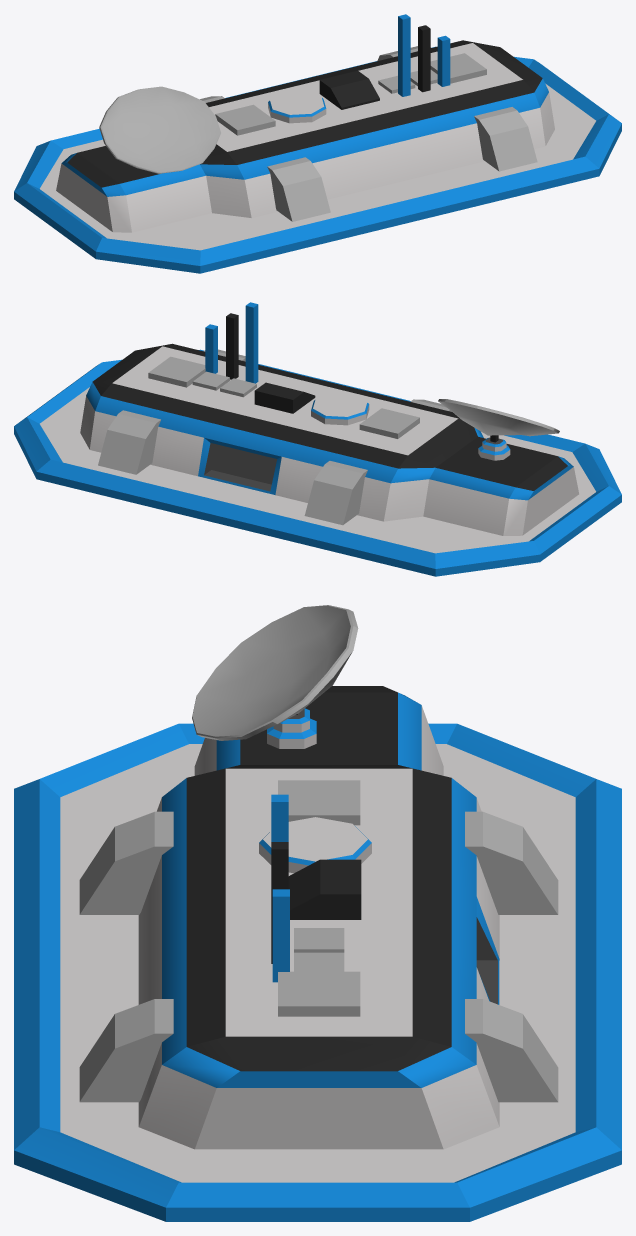
The model's file is PBase.fbx.
3 views of the same model, one above another, from view 1: azimuth 30°, elevation 25°; view 2: azimuth 150°, elevation 25°; view 3: azimuth 270°, elevation 25° (orthographic). The views are drawn at different scales.
Parts seen in each view (by area): view 1: Main, Base, Radat, CL3, CL4, EN, Cell6, Cell5, Cell7, Cell1, Cell4, Cell3; view 2: Main, Base, CL2, CL1, Radat, Cell6, EN, Cell5, Cell1, Cell7, Cell4, Cell3 (+3 smaller); view 3: Base, Main, Radat, CL3, CL4, CL1, CL2, EN, Cell1, Cell6, Cell5, Cell3 (+5 smaller).
Part boxes in pixels (x1,y1,x2,y2): Main: (56,40,554,232); Base: (14,46,621,273); Radat: (99,86,220,173); CL3: (474,107,537,171); CL4: (267,157,330,221); EN: (319,70,379,109); Cell6: (268,92,326,123); Cell5: (215,104,275,135); Cell7: (398,14,410,96); Cell1: (430,53,486,83); Cell4: (418,25,430,92); Cell3: (437,35,450,86); Main: (80,343,578,535); Base: (14,349,621,576); CL2: (304,461,367,525); CL1: (98,410,160,474); Radat: (438,399,559,436); Cell6: (311,394,369,425); EN: (254,382,315,413); Cell5: (359,408,419,438); Cell1: (148,356,205,387); Cell7: (245,302,258,383); Cell4: (226,313,238,379); Cell3: (205,324,217,373); Base: (14,723,621,1221); Main: (138,686,499,1149); Radat: (192,605,358,740); CL3: (79,999,173,1102); CL4: (79,811,173,914); CL1: (465,999,558,1102); CL2: (465,811,558,914); EN: (288,859,361,919); Cell1: (278,971,360,1016); Cell6: (259,817,371,873); Cell5: (278,780,360,825); Cell3: (272,889,289,982).
Size of the model in its own units: 19.08 by 5.22 by 10.29.
